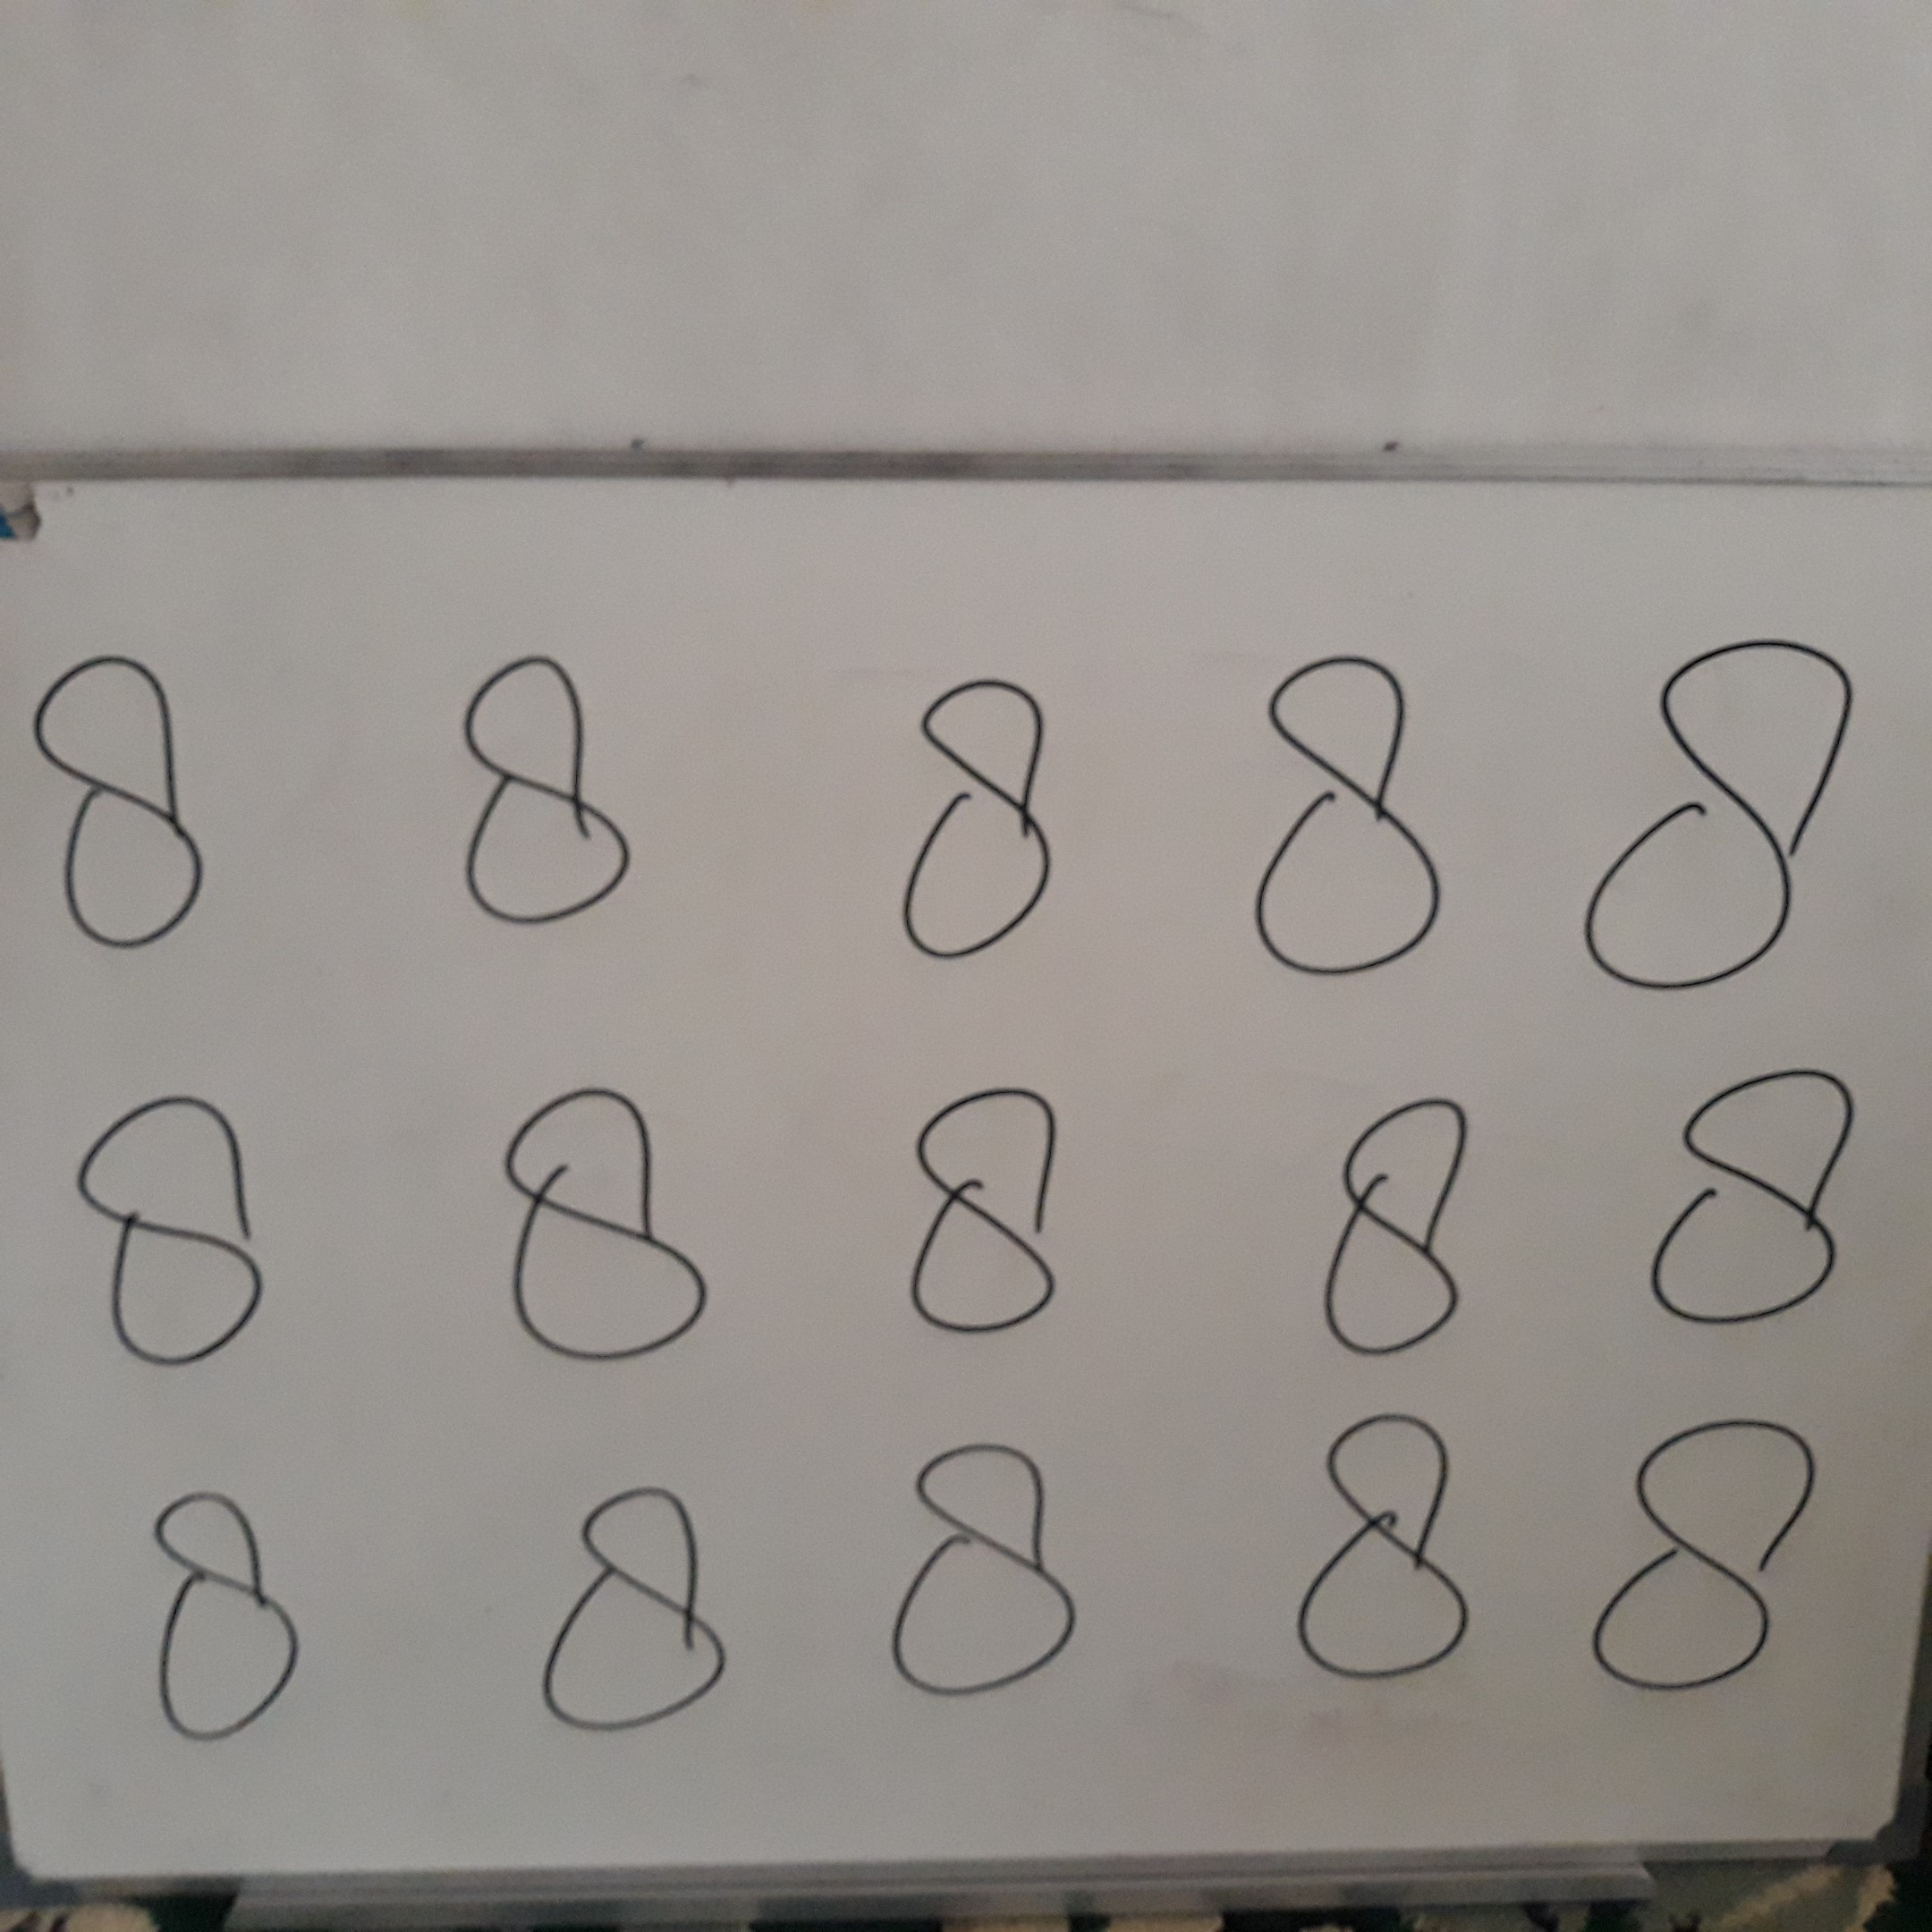num8: (1566, 629, 1877, 1005), (1239, 646, 1471, 998), (1578, 1406, 1833, 1711), (55, 1074, 300, 1384), (21, 644, 243, 971), (1626, 1055, 1876, 1346), (491, 1067, 720, 1382), (428, 634, 648, 945), (877, 666, 1084, 978), (871, 1436, 1100, 1709), (523, 1470, 747, 1745), (1284, 1406, 1487, 1699), (1303, 1085, 1503, 1370), (135, 1477, 322, 1760), (894, 1071, 1080, 1350)
